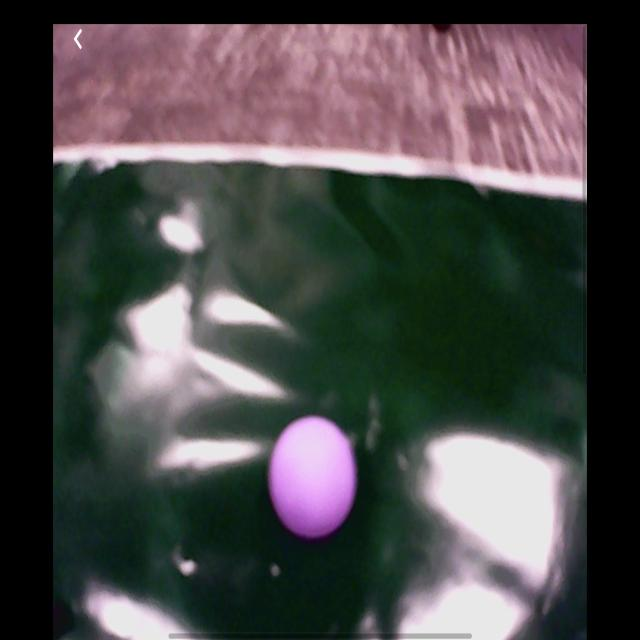ball: (269, 418, 359, 537)
